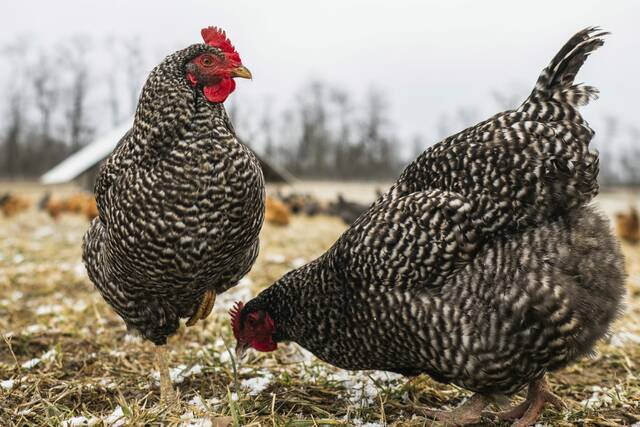chicken: (212, 71, 626, 413), (83, 24, 266, 344)
